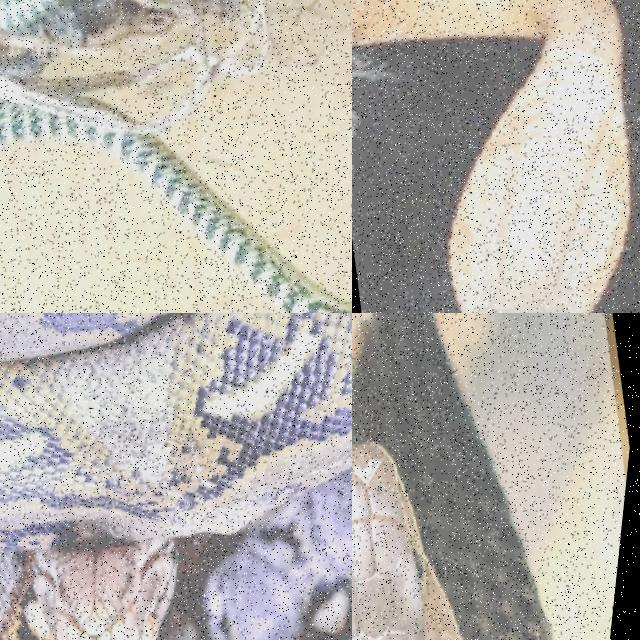Chrysopelea ornata: (0, 100, 351, 312)
Malayopython reticulatus: (0, 313, 351, 639)
Naja kaouthia: (352, 0, 630, 312)
Ophiophagus hannah: (352, 313, 594, 639)
snake: (0, 313, 351, 639), (352, 0, 630, 312), (352, 313, 594, 639), (0, 100, 351, 312)
